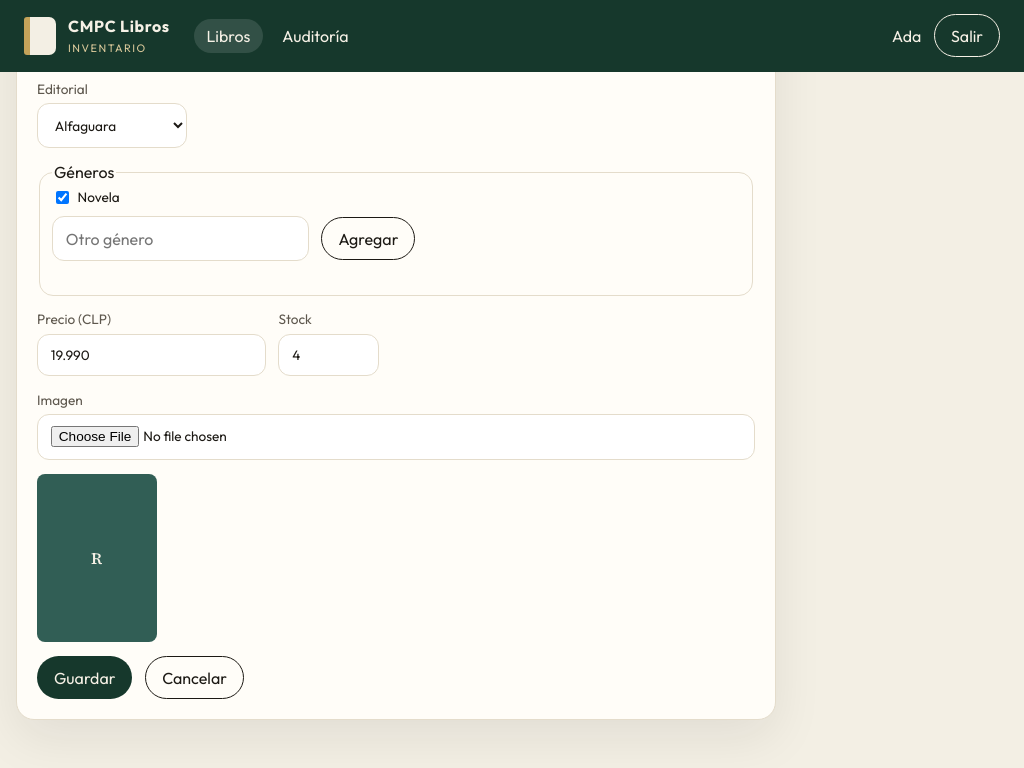
Test case: formulario de libro › edita sin reemplazar la imagen
(page scrolled)
Click the button "Guardar" at coordinates (85, 678), box [37, 656, 132, 699]
(page scrolled)
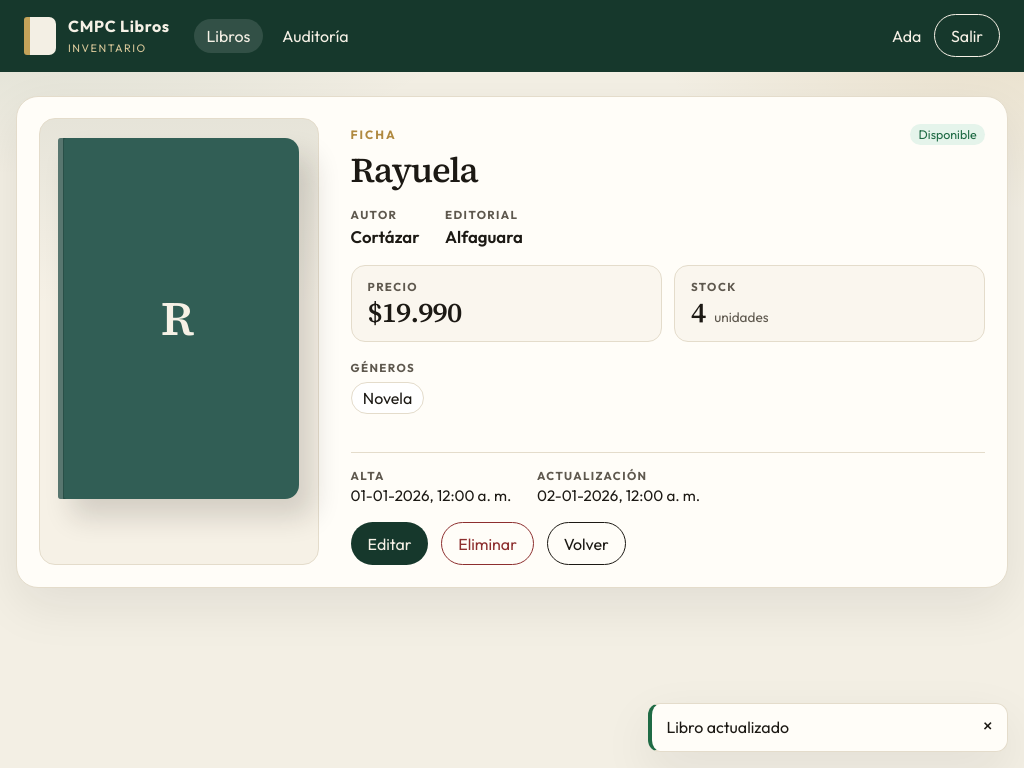
Check: the heading "Rayuela" is shown, box [351, 146, 478, 194]
Check: the message shows "Libro actualizado", box [666, 717, 789, 737]
